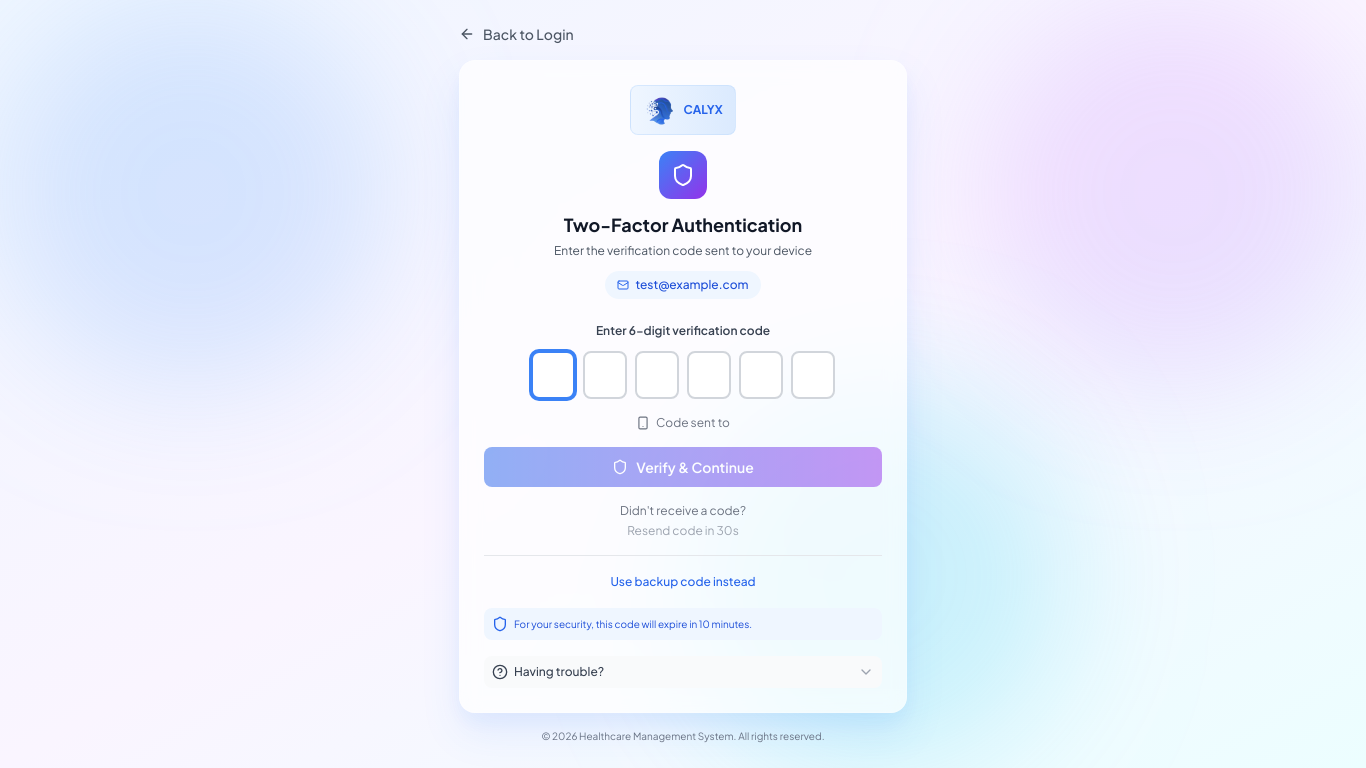
TwoFactorAuth Page › shows backup code form when clicked
What coordinates should you click on to do the following:
click the button "Use backup code instead"
I would click on:
 (683, 582)
Its box is [610,574,756,590].
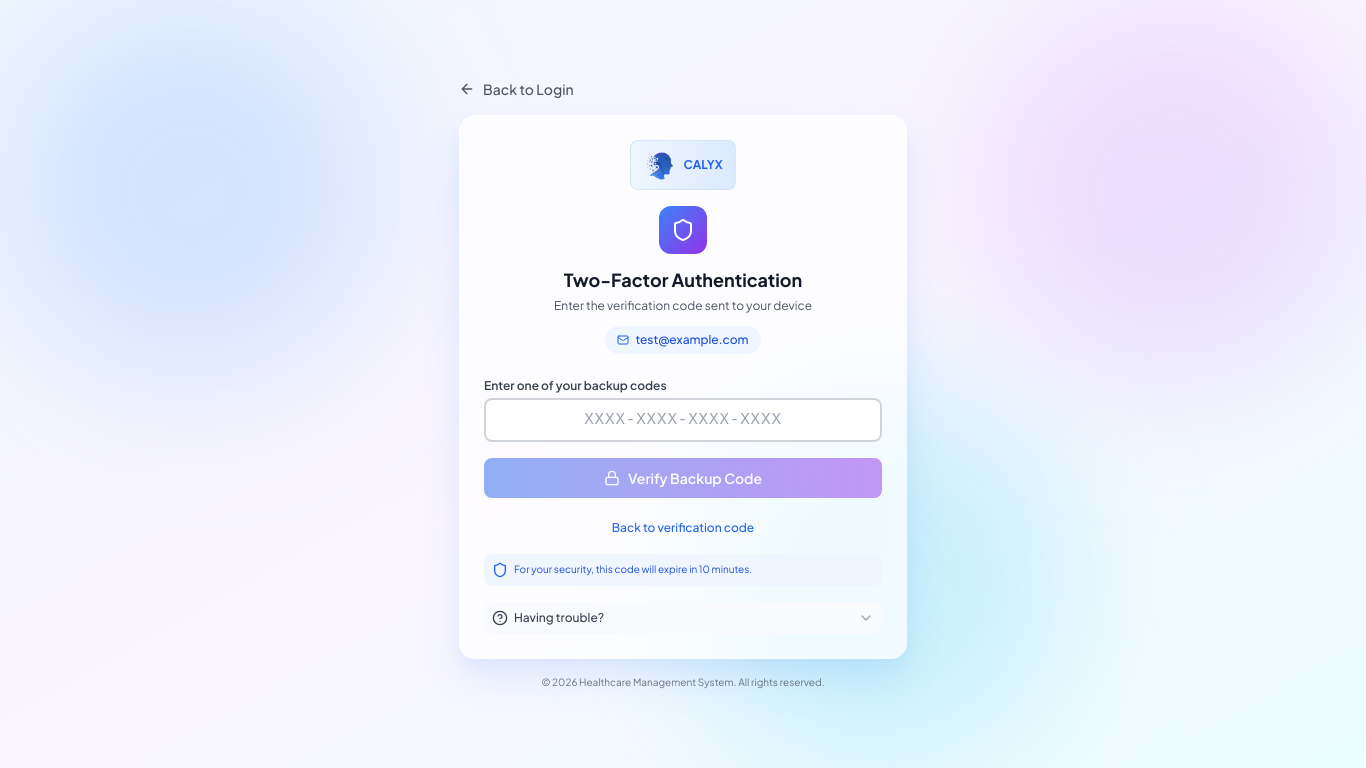
Check: the field with placeholder "XXXX-XXXX-XXXX-XXXX" is shown, box [484,398,882,442]
